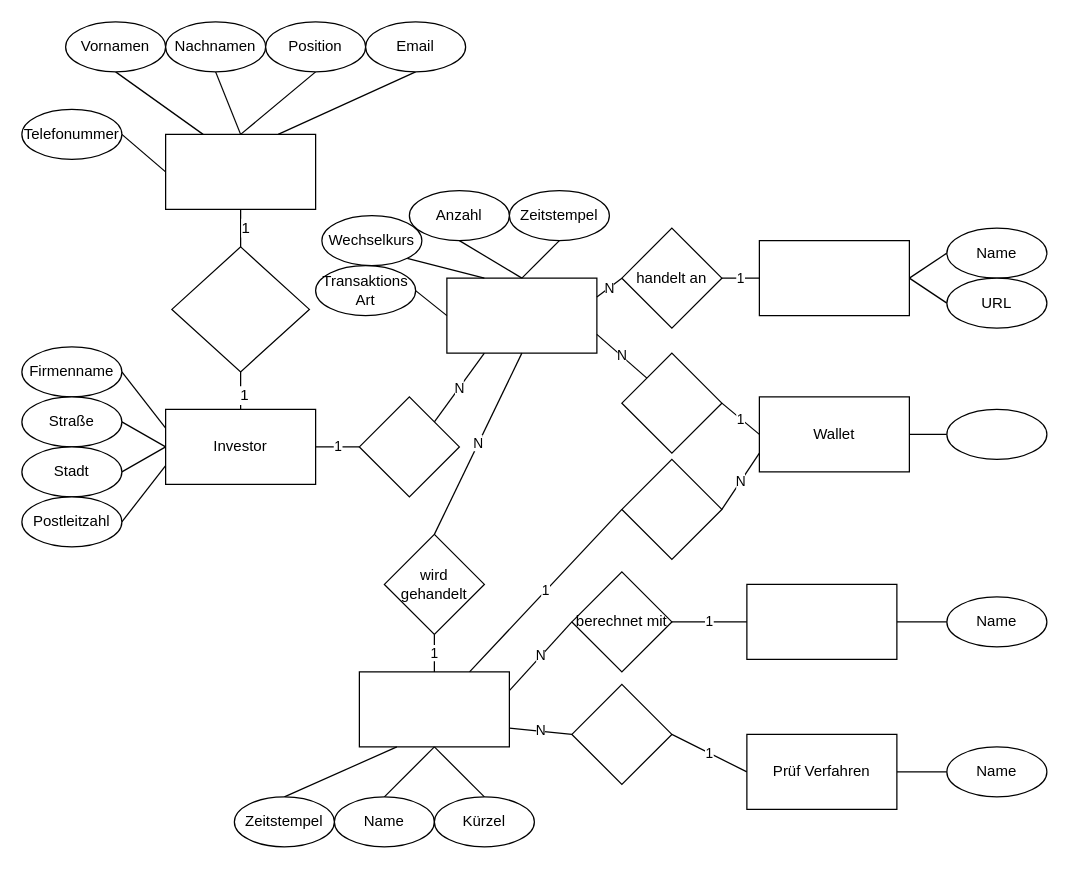
Some shapes in this 1069 by 869 pixel diagram are drawn without their labels. Here are the shapes that lost their labels. From the top down, the centre of each, then its label:
At [240,171]: "Kontakt Person".
At [833,277]: "Börse".
At [240,309]: "Ansprechpartner".
At [521,315]: "Transaktion".
At [671,402]: "sichert coins".
At [408,446]: "gehört".
At [996,433]: "Addresse".
At [671,508]: "gesichert".
At [821,621]: "Algorithmus".
At [433,709]: "Krypto Coin".
At [621,733]: "geprüft mit".
